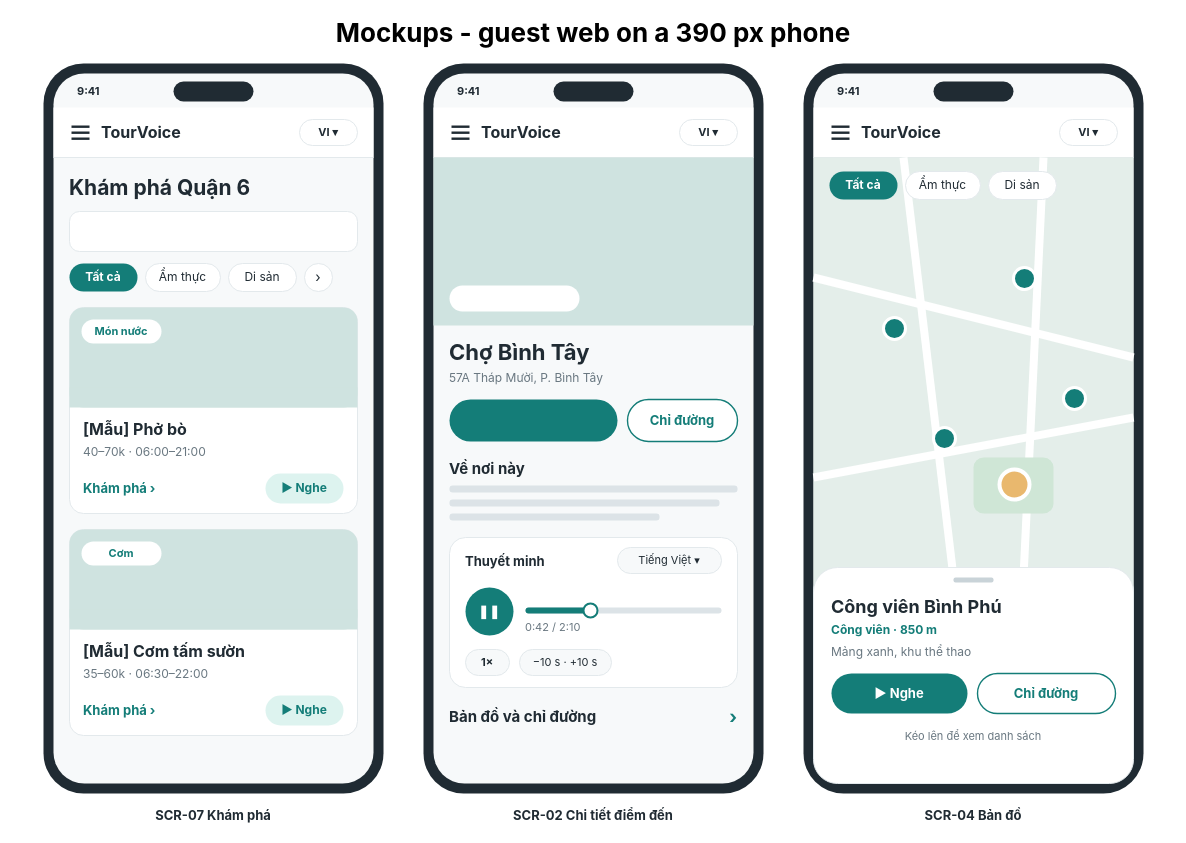
Some shapes in this 1186 by 843 pixel diagram are drawn without their labels. The shapes that lost their labels are listed below. From the top down, each one's centre as x and y in pixels, then its label:
the point at 213,231: ⌕ Tìm kiếm...
the point at 514,298: Chợ truyền thống
the point at 533,420: ▶ Nghe audio
